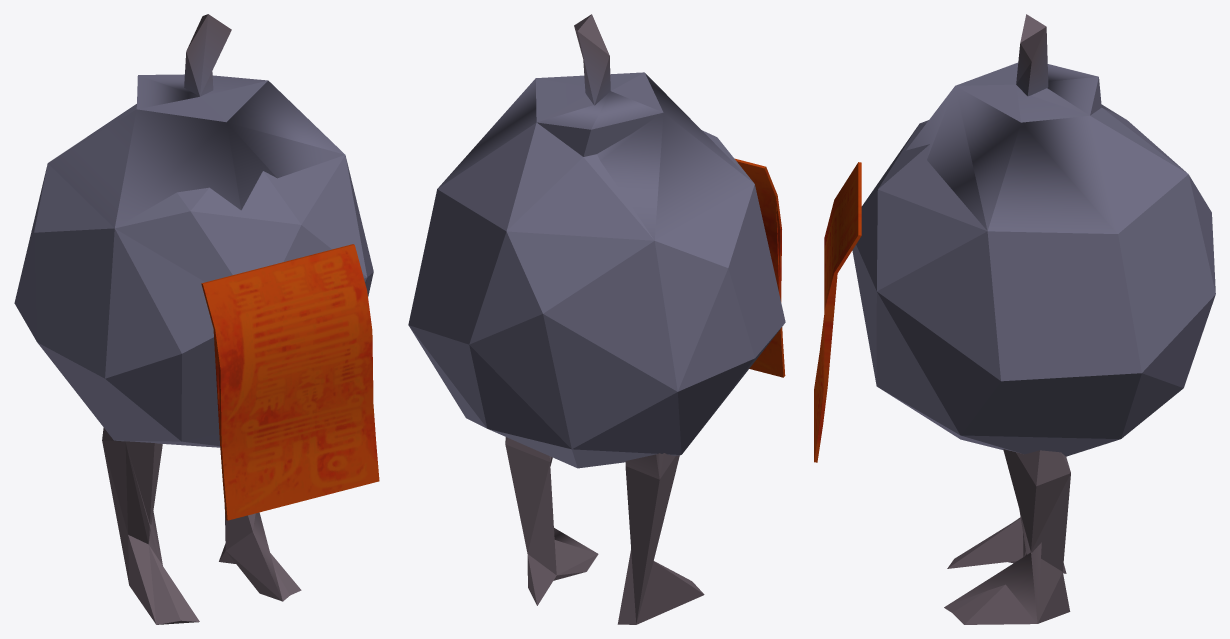
Rendered from item_squishy_bomber.glb.
The picture shows the model from 3 angles, left to right: view 1: azimuth 30°, elevation 25°; view 2: azimuth 150°, elevation 25°; view 3: azimuth 270°, elevation 25°; orthographic projection. The views are drawn at different scales.
Parts seen in each view (by area): view 1: toy_bomber_submesh_0, toy_bomber_submesh_1; view 2: toy_bomber_submesh_0, toy_bomber_submesh_1; view 3: toy_bomber_submesh_0, toy_bomber_submesh_1.
Part boxes in pixels (<box>): toy_bomber_submesh_0: <box>14,14,373,624</box>; toy_bomber_submesh_1: <box>201,244,379,520</box>; toy_bomber_submesh_0: <box>408,14,785,624</box>; toy_bomber_submesh_1: <box>734,158,785,377</box>; toy_bomber_submesh_0: <box>852,14,1215,624</box>; toy_bomber_submesh_1: <box>814,162,861,462</box>.
Bounding box in the file's own units: 0.2114 × 0.3626 × 0.2267.
Materials: 2 (1 with a texture image).
